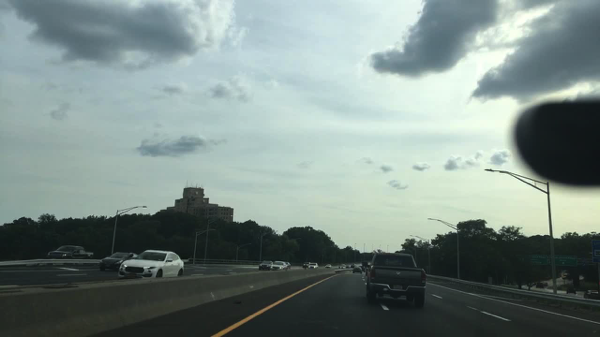car: (365, 254, 426, 308), (118, 249, 186, 282), (101, 250, 138, 273), (47, 245, 94, 261), (582, 290, 599, 299), (258, 261, 273, 271), (269, 262, 286, 270), (566, 286, 576, 294), (352, 267, 362, 275), (535, 283, 544, 289), (308, 263, 318, 268), (302, 261, 309, 268), (359, 266, 367, 272), (365, 265, 370, 273), (542, 282, 548, 287), (339, 264, 345, 269), (285, 262, 291, 267), (351, 264, 357, 268), (326, 264, 332, 268), (345, 265, 352, 268)
traffic sign: (549, 255, 578, 266), (521, 255, 549, 266), (591, 240, 599, 263)
truck: (357, 260, 365, 266)
